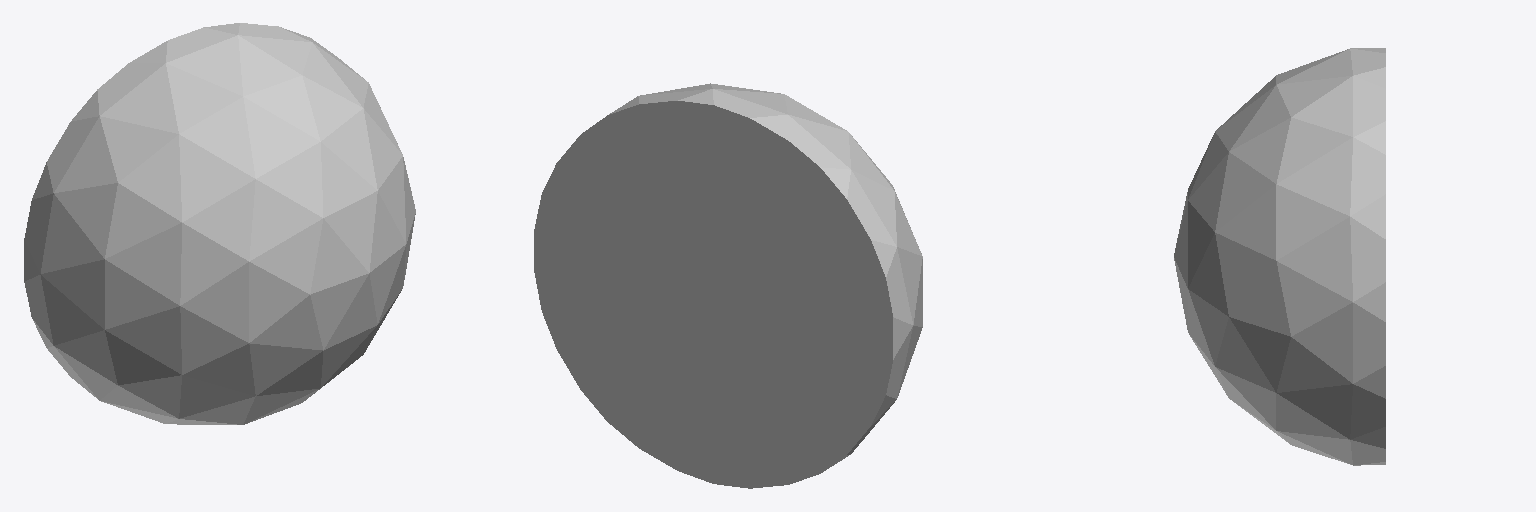
Rendered from sky.obj.
3 views of the same model, side by side, from view 1: azimuth 30°, elevation 25°; view 2: azimuth 150°, elevation 25°; view 3: azimuth 270°, elevation 25° (orthographic).
Visible parts, largest first — view 1: Figure 1; view 2: Figure 1; view 3: Figure 1.
Part boxes in pixels (x1,y1,x2,y2): Figure 1: (24, 23, 415, 424); Figure 1: (534, 83, 922, 488); Figure 1: (1174, 48, 1385, 465).
Size of the model in its own units: 130 by 130 by 66.25.